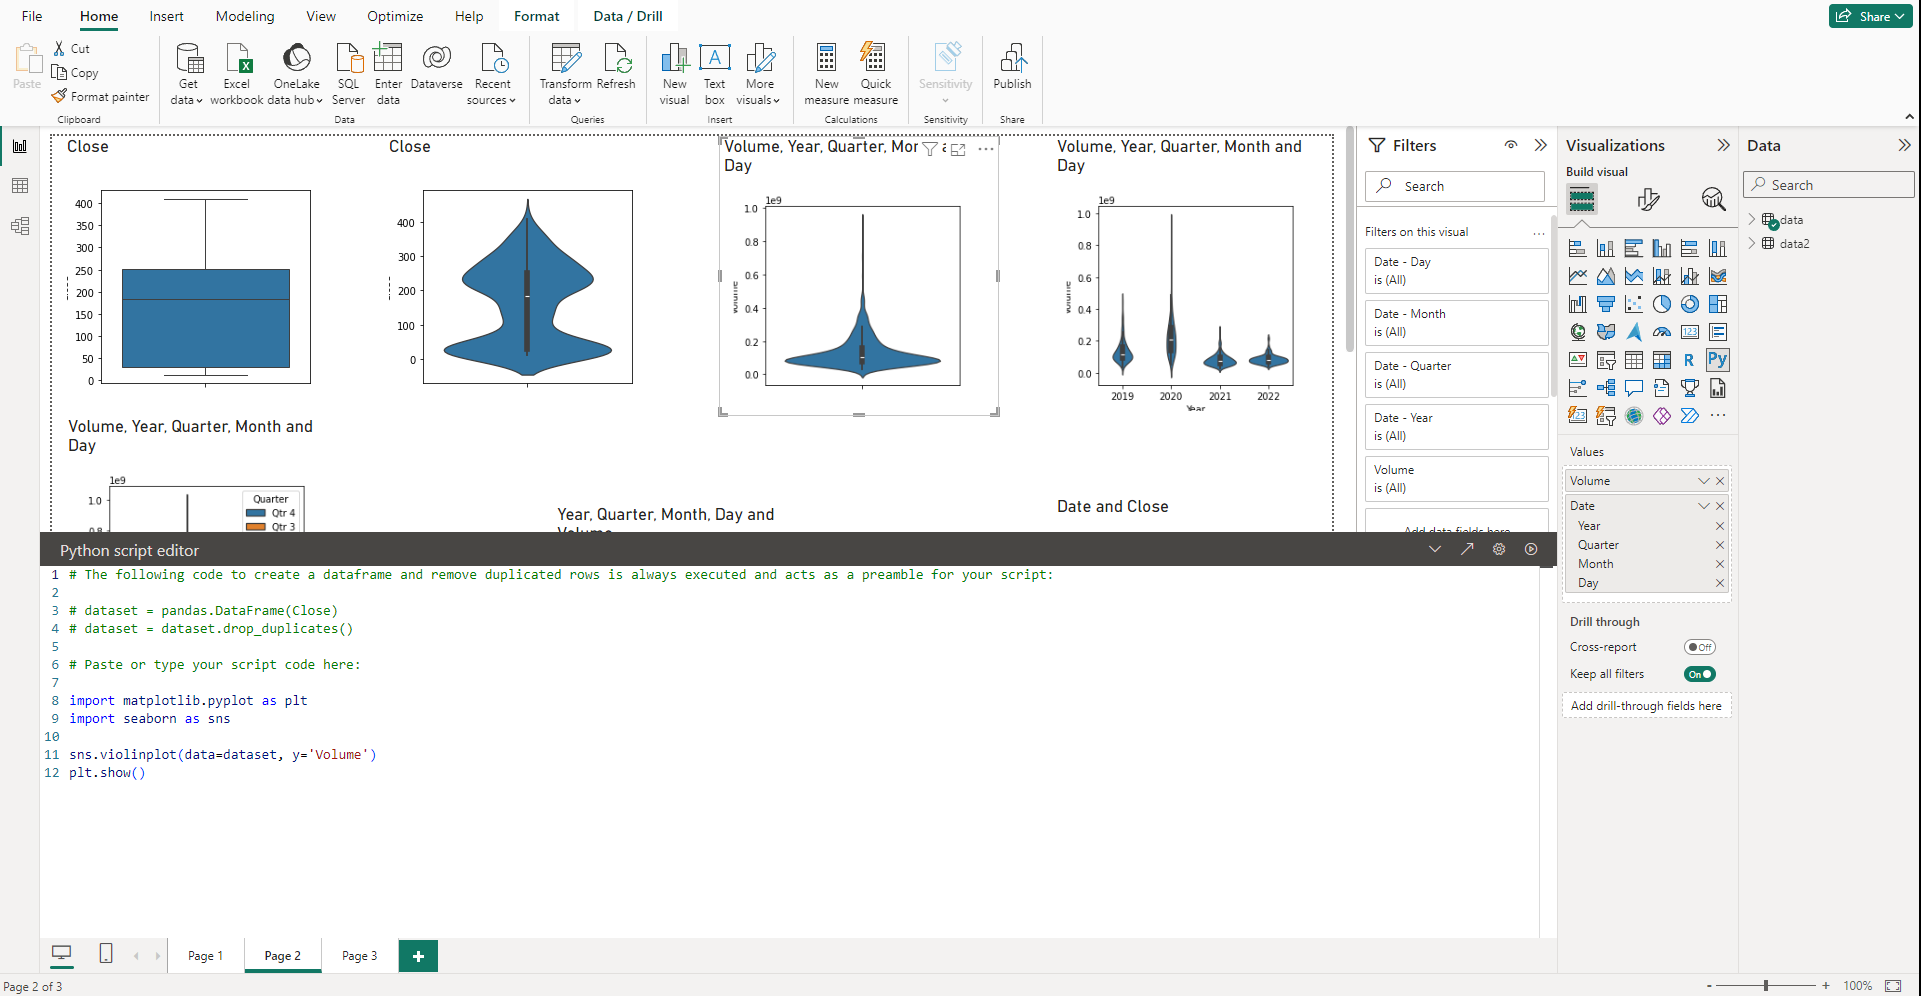

The page's visual inventory and layout, read from the dashboard file:
{"tool":"powerbi","page":{"name":"Page 2","canvas":[1280,720],"ordinal":1},"visuals":[{"type":"pythonVisual","fields":{"Values":["data.Close"]},"box":[10,0,280,280],"z":0},{"type":"pythonVisual","fields":{"Values":["data.Close"]},"box":[332,0,280,280],"z":1000},{"type":"pythonVisual","fields":{"Values":["data.Volume","data.Date.Variation.Date Hierarchy.Year","data.Date.Variation.Date Hierarchy.Quarter","data.Date.Variation.Date Hierarchy.Month","data.Date.Variation.Date Hierarchy.Day"]},"box":[667,0,280,280],"z":2000},{"type":"pythonVisual","fields":{"Values":["data.Volume","data.Date.Variation.Date Hierarchy.Year","data.Date.Variation.Date Hierarchy.Quarter","data.Date.Variation.Date Hierarchy.Month","data.Date.Variation.Date Hierarchy.Day"]},"box":[1000,0,280,280],"z":3000},{"type":"pythonVisual","fields":{"Values":["data.Volume","data.Date.Variation.Date Hierarchy.Year","data.Date.Variation.Date Hierarchy.Quarter","data.Date.Variation.Date Hierarchy.Month","data.Date.Variation.Date Hierarchy.Day"]},"box":[10.5,280,280,280],"z":4000},{"type":"pythonVisual","fields":{"Values":["data.Date.Variation.Date Hierarchy.Year","data.Date.Variation.Date Hierarchy.Quarter","data.Date.Variation.Date Hierarchy.Month","data.Date.Variation.Date Hierarchy.Day","data.Volume"]},"box":[500,368,280,149],"z":5000},{"type":"pythonVisual","fields":{"Values":["data.Date","data.Close"]},"box":[1000,360,280,149],"z":6000}]}

Visuals, with their boxes on the page's 1280x720 design canvas (x1, y1, x2, y2). These are canvas units, not pixel positions in the 1921x996 screenshot, which may show the page scaled, cropped or inside an application window:
pythonVisual - data.Close: x1=10, y1=0, x2=290, y2=280
pythonVisual - data.Close: x1=332, y1=0, x2=612, y2=280
pythonVisual - data.Volume x data.Date.Variation.Date Hierarchy.Year: x1=667, y1=0, x2=947, y2=280
pythonVisual - data.Volume x data.Date.Variation.Date Hierarchy.Year: x1=1000, y1=0, x2=1280, y2=280
pythonVisual - data.Volume x data.Date.Variation.Date Hierarchy.Year: x1=10, y1=280, x2=290, y2=560
pythonVisual - data.Date.Variation.Date Hierarchy.Year x data.Date.Variation.Date Hierarchy.Quarter: x1=500, y1=368, x2=780, y2=517
pythonVisual - data.Date x data.Close: x1=1000, y1=360, x2=1280, y2=509
